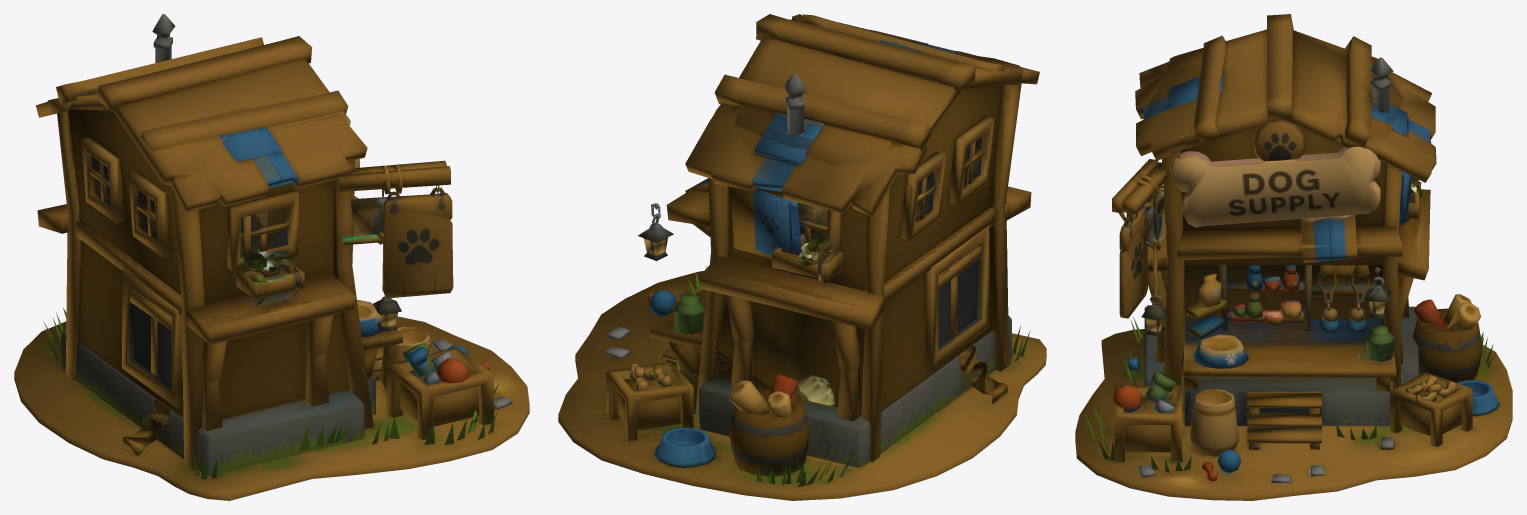
Rendered from tripo_convert_cd703d19-f9a1-45b8-84a1-815f2ac5f97d.fbx.
The picture shows the model from 3 angles, left to right: view 1: azimuth 30°, elevation 25°; view 2: azimuth 150°, elevation 25°; view 3: azimuth 270°, elevation 25°; orthographic projection. The views are drawn at different scales.
Parts seen in each view (by area): view 1: tripo_node_cd703d19; view 2: tripo_node_cd703d19; view 3: tripo_node_cd703d19.
Boxes of the visible parts, x1,y1,x2,y2 form: tripo_node_cd703d19: (14, 14, 529, 500); tripo_node_cd703d19: (558, 14, 1046, 500); tripo_node_cd703d19: (1075, 14, 1512, 500).
Size of the model in its own units: 0.9863 by 0.8223 by 0.998.
Materials: 1 (1 with a texture image).
